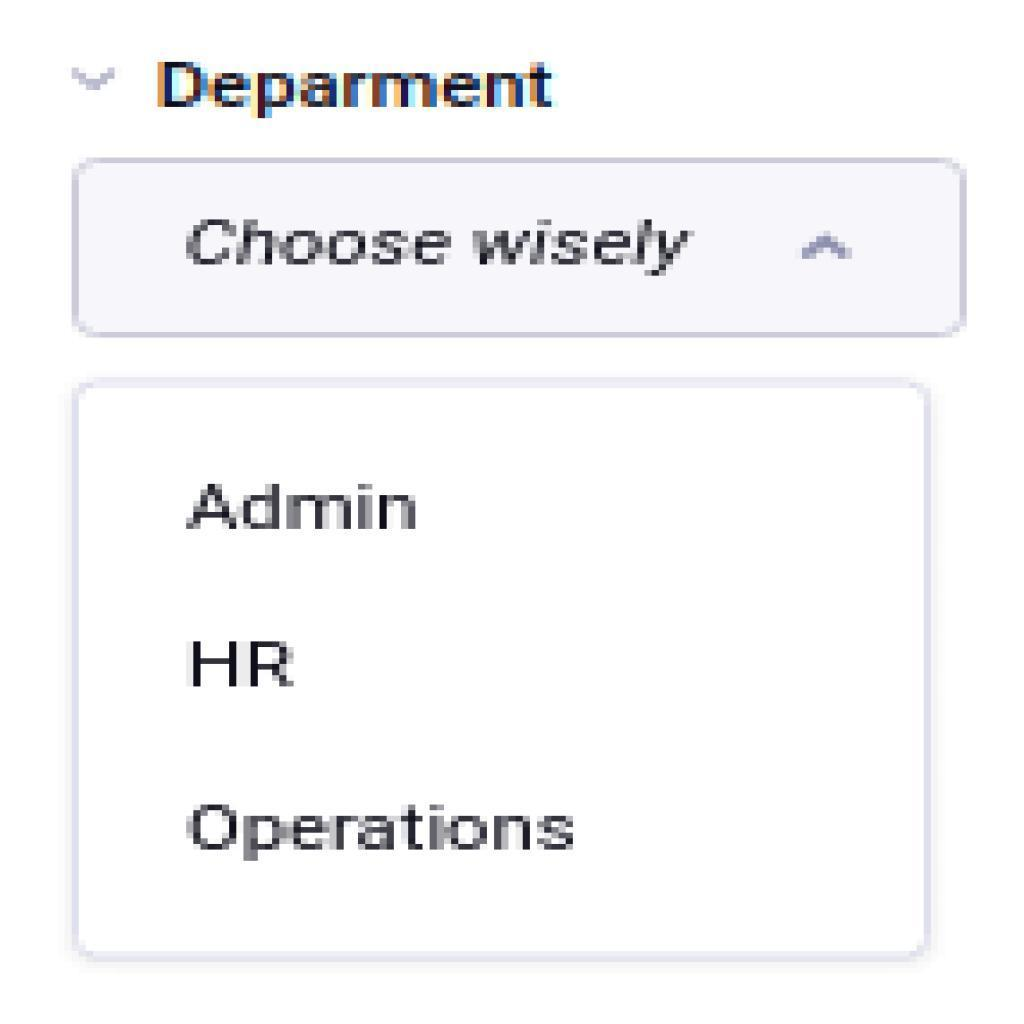dropdown: (79, 161, 966, 334)
